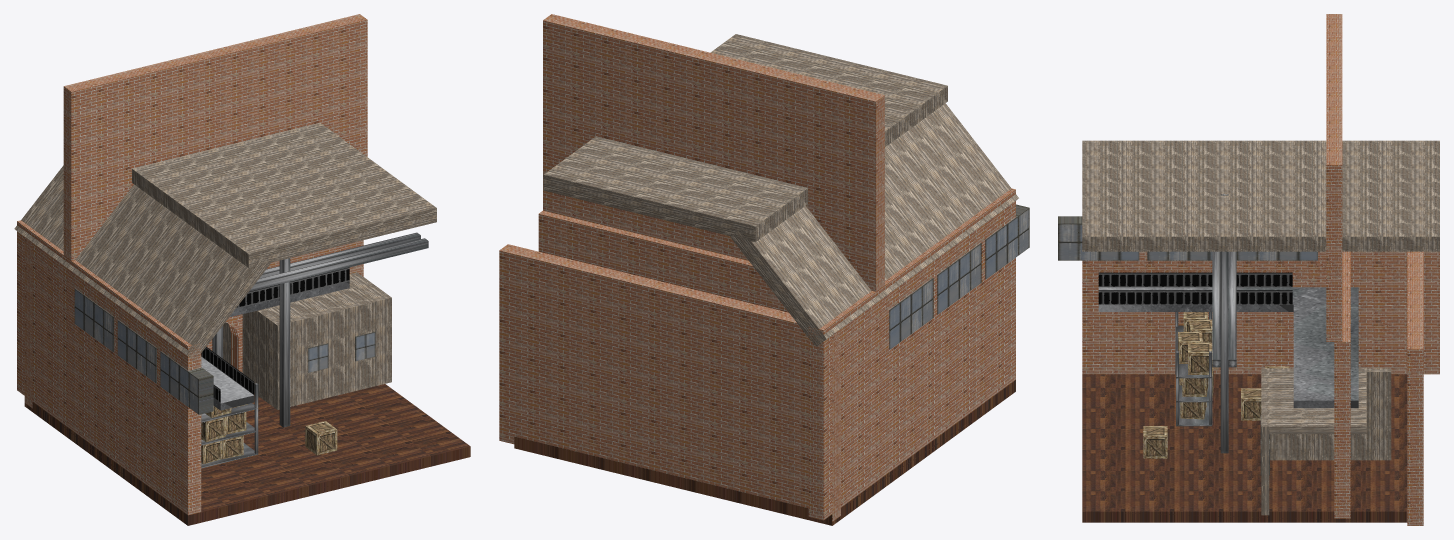
File: Fake Map.fbx
The picture shows the model from 3 angles, left to right: view 1: azimuth 30°, elevation 25°; view 2: azimuth 150°, elevation 25°; view 3: azimuth 270°, elevation 25°; orthographic projection. The views are drawn at different scales.
Parts seen in each view (by area): view 1: Cube.031, Cube.032, Cube.007, Cube, Cube.006, Cube.009, Cube.029, Cube.017, Cube.034, Cube.018, Cube.004, Cube.030 (+13 smaller); view 2: Cube.008, Cube.031, Cube.007, Cube.006, Cube.032, Cube.003, Cube, Cube.017, Cube.015, Cube.016; view 3: Cube.032, Cube, Cube.007, Cube.018, Cube.031, Cube.029, Cube.008, Cube.003, Cube.030, Cube.020, Cube.019, Cube.028 (+13 smaller).
Part boxes in pixels (x1,y1,x2,y2): Cube.031: (63,14,367,260); Cube.032: (132,123,436,267); Cube.007: (17,220,201,515); Cube: (24,384,470,525); Cube.006: (14,165,270,361); Cube.009: (290,295,391,406); Cube.029: (223,309,279,409); Cube.017: (160,351,213,414); Cube.034: (249,238,428,291); Cube.018: (201,281,349,410); Cube.004: (279,258,290,427); Cube.030: (264,272,387,320); Cube.008: (499,244,840,521); Cube.031: (543,14,884,291); Cube.007: (808,188,1015,520); Cube.006: (730,103,1018,347); Cube.032: (543,34,947,242); Cube.003: (538,210,875,312); Cube: (514,380,1015,525); Cube.017: (985,204,1029,279); Cube.015: (889,278,933,349); Cube.016: (937,243,981,314); Cube.032: (1082,140,1439,251); Cube: (1082,374,1407,522); Cube.007: (1082,251,1439,374); Cube.018: (1098,287,1358,408); Cube.031: (1326,14,1342,341); Cube.029: (1261,368,1391,460); Cube.008: (1407,251,1423,525); Cube.003: (1334,251,1350,518); Cube.030: (1269,372,1366,434); Cube.020: (1098,272,1292,287); Cube.019: (1098,290,1292,304); Cube.028: (1178,312,1212,374).
Size of the model in its own units: 1384 by 1509 by 1433.
7 materials, 7 textured.
